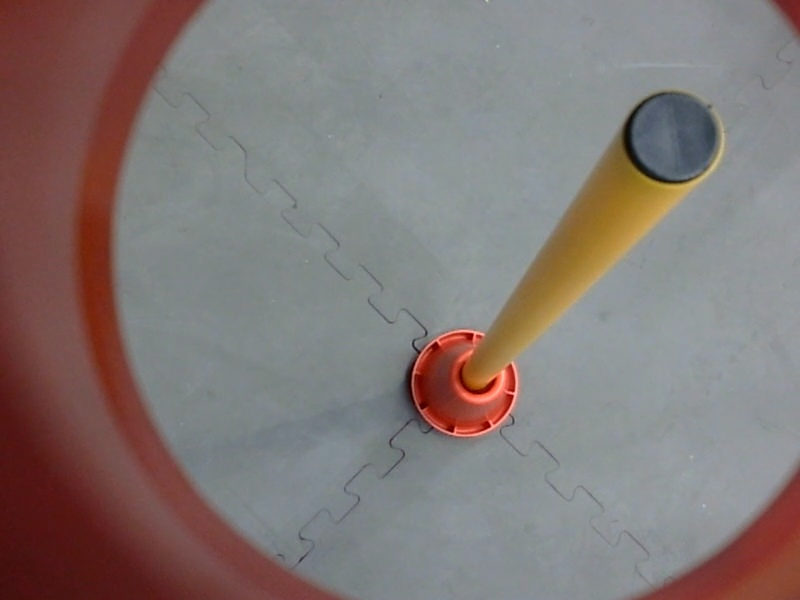tip: (618, 80, 729, 192)
